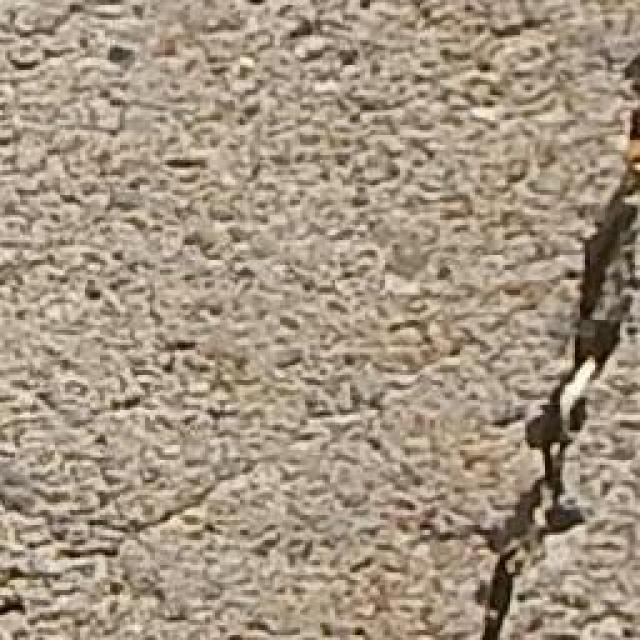concrete-crack: (468, 30, 640, 640)
